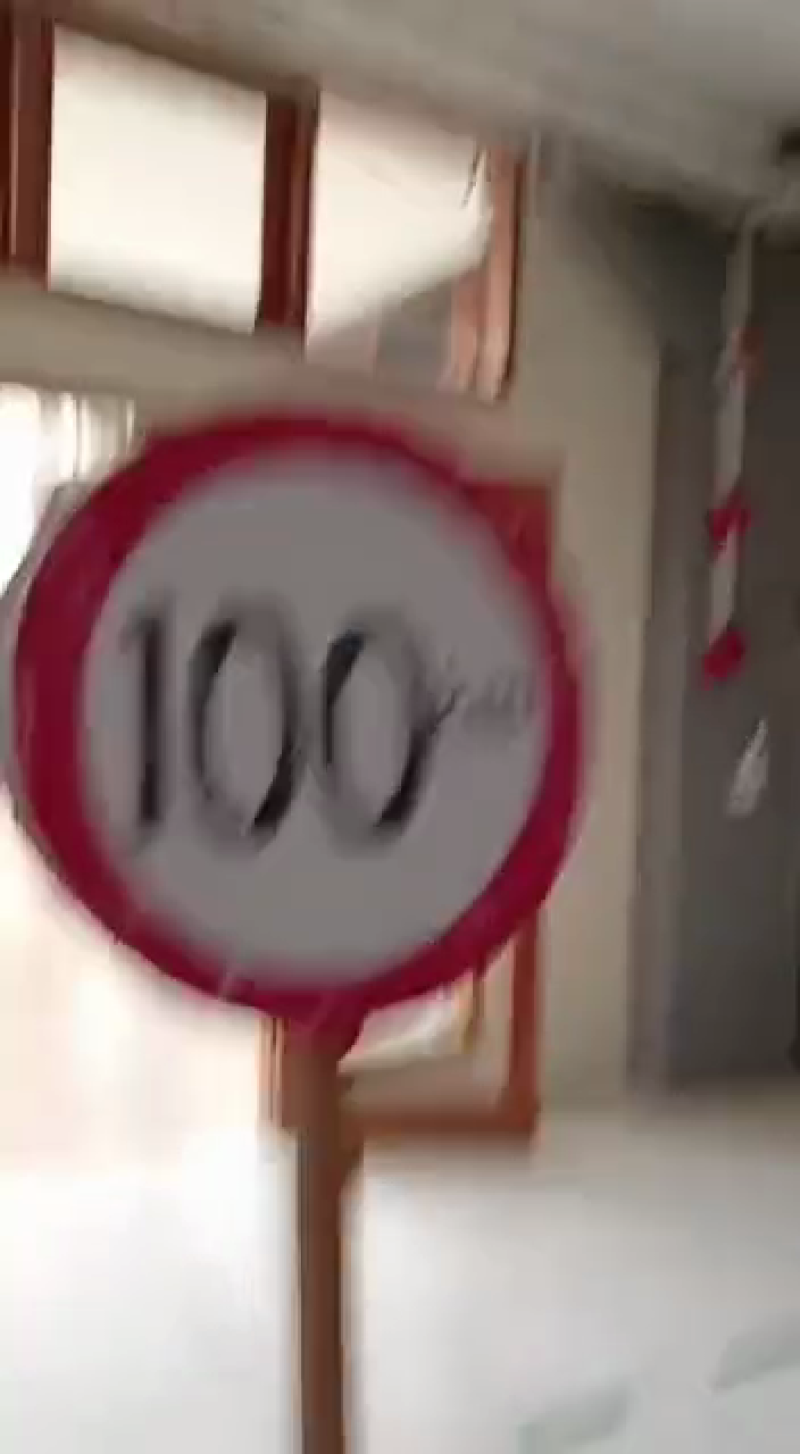batas maksimal 100kmperjam: (18, 394, 603, 1057)
